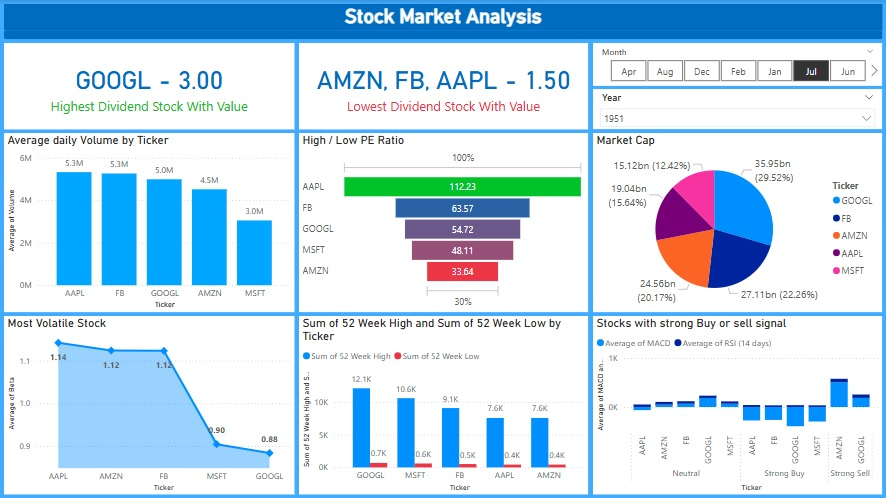

Layout of this report page (visuals, bound fields, positions):
{"tool":"tableau","page":{"name":"Dashboard 1","canvas":[1000,1000],"units":"permille","ordinal":0},"visuals":[{"type":"text","box":[6.9,14.5,986.1,80.9]},{"type":"worksheet","title":"Highest Dividend Stock","mark":"Automatic","rows":["Ticker"],"box":[6.9,95.4,160.1,109.2]},{"type":"worksheet","title":"Lowest Dividend Stock","mark":"Automatic","rows":["Ticker"],"box":[167.1,95.4,168.8,109.2]},{"type":"filter","title":"Most Volatile Stocks","param":"[federated.1wgkihj1eii4ss10iafzo1o59h06].[none:Year:ok]","box":[335.9,95.4,328.1,109.2]},{"type":"filter","title":"Most Volatile Stocks","param":"[federated.1wgkihj1eii4ss10iafzo1o59h06].[none:Month:nk]","box":[664,95.4,329.1,109.2]},{"type":"worksheet","title":"Average Daily Trading Volume","mark":"Automatic","rows":["Volume"],"cols":["Ticker"],"box":[6.9,204.7,328.6,362.3]},{"type":"worksheet","title":"Most Volatile Stocks","mark":"Line","rows":["Beta"],"cols":["Ticker"],"box":[335.6,204.7,328.7,362.3]},{"type":"worksheet","title":"PE Ratio","mark":"Bar","rows":["Low PE Ratio (copy)_279504717519568896","High PE Ratio (copy)_280067665924190216"],"cols":["Ticker"],"box":[664.3,204.7,328.8,362.3]},{"type":"legend","title":"Market Cap","param":"[federated.1wgkihj1eii4ss10iafzo1o59h06].[none:Ticker:nk]","box":[593.9,558,87.5,213.8]},{"type":"worksheet","title":"Stocks Near 52 Week High / Low","mark":"Line","rows":["52_Week_Low","52_Week_High"],"cols":["Ticker"],"box":[6.9,566.9,328.6,418.6]},{"type":"worksheet","title":"Market Cap","mark":"Pie","box":[335.6,566.9,328.4,418.6]},{"type":"worksheet","title":"Trade Signal","mark":"Automatic","cols":["Trade_signal","Ticker"],"box":[664,566.9,329.1,418.6]}]}

Visuals, with their boxes on the dashboard's canvas, which has no fixed pixel size, in thousandths of its width and height (x1, y1, x2, y2). These are canvas units, not pixel positions in the 886x498 screenshot, which may show the page scaled, cropped or inside an application window:
text: {"left": 7, "top": 14, "right": 993, "bottom": 95}
"Highest Dividend Stock" worksheet: {"left": 7, "top": 95, "right": 167, "bottom": 205}
"Lowest Dividend Stock" worksheet: {"left": 167, "top": 95, "right": 336, "bottom": 205}
"Most Volatile Stocks" filter: {"left": 336, "top": 95, "right": 664, "bottom": 205}
"Most Volatile Stocks" filter: {"left": 664, "top": 95, "right": 993, "bottom": 205}
"Average Daily Trading Volume" worksheet: {"left": 7, "top": 205, "right": 336, "bottom": 567}
"Most Volatile Stocks" worksheet (Line marks): {"left": 336, "top": 205, "right": 664, "bottom": 567}
"PE Ratio" worksheet (Bar marks): {"left": 664, "top": 205, "right": 993, "bottom": 567}
"Market Cap" legend: {"left": 594, "top": 558, "right": 681, "bottom": 772}
"Stocks Near 52 Week High / Low" worksheet (Line marks): {"left": 7, "top": 567, "right": 336, "bottom": 986}
"Market Cap" worksheet (Pie marks): {"left": 336, "top": 567, "right": 664, "bottom": 986}
"Trade Signal" worksheet: {"left": 664, "top": 567, "right": 993, "bottom": 986}
